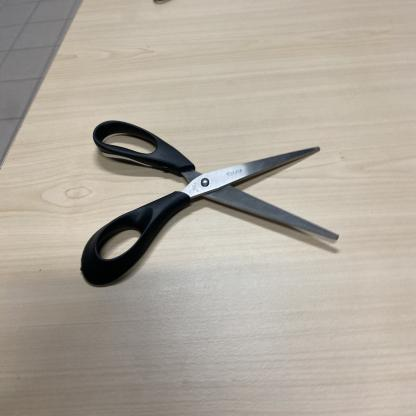scissors: (80, 114, 340, 288)
